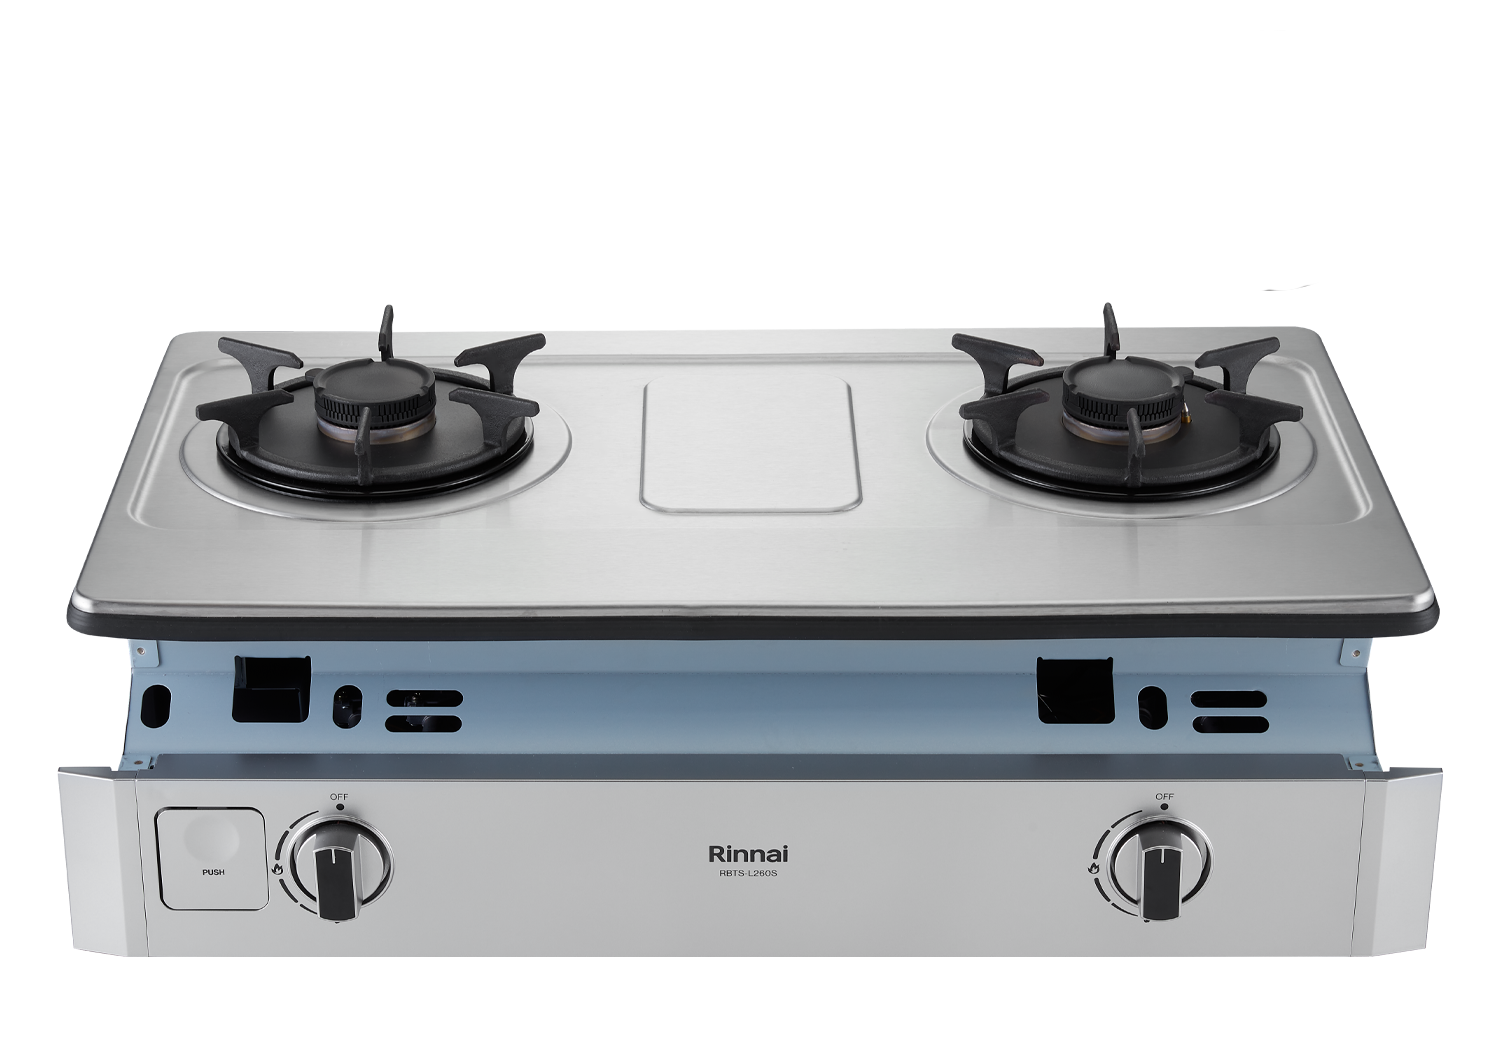gasoven: (54, 317, 1456, 963)
